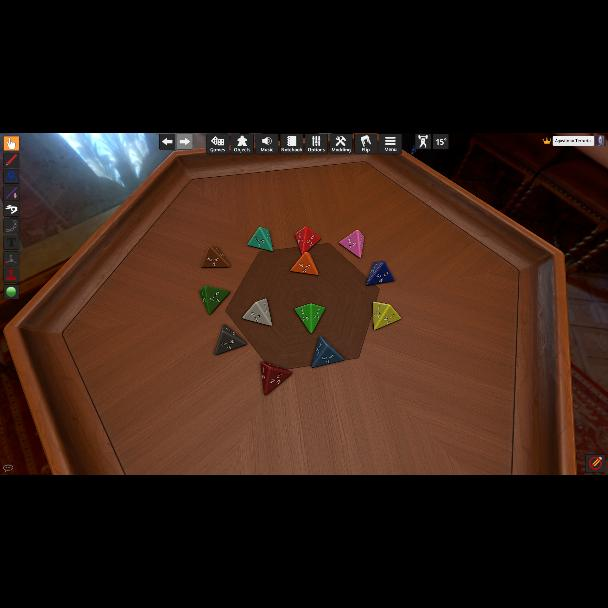d4: (260, 362, 292, 396), (311, 337, 343, 369), (214, 326, 246, 356), (200, 285, 230, 315), (294, 304, 324, 334), (242, 298, 272, 326), (373, 303, 401, 331), (294, 226, 320, 256), (338, 230, 364, 258), (366, 262, 394, 286), (291, 251, 319, 275), (202, 244, 228, 268), (248, 228, 272, 252)
